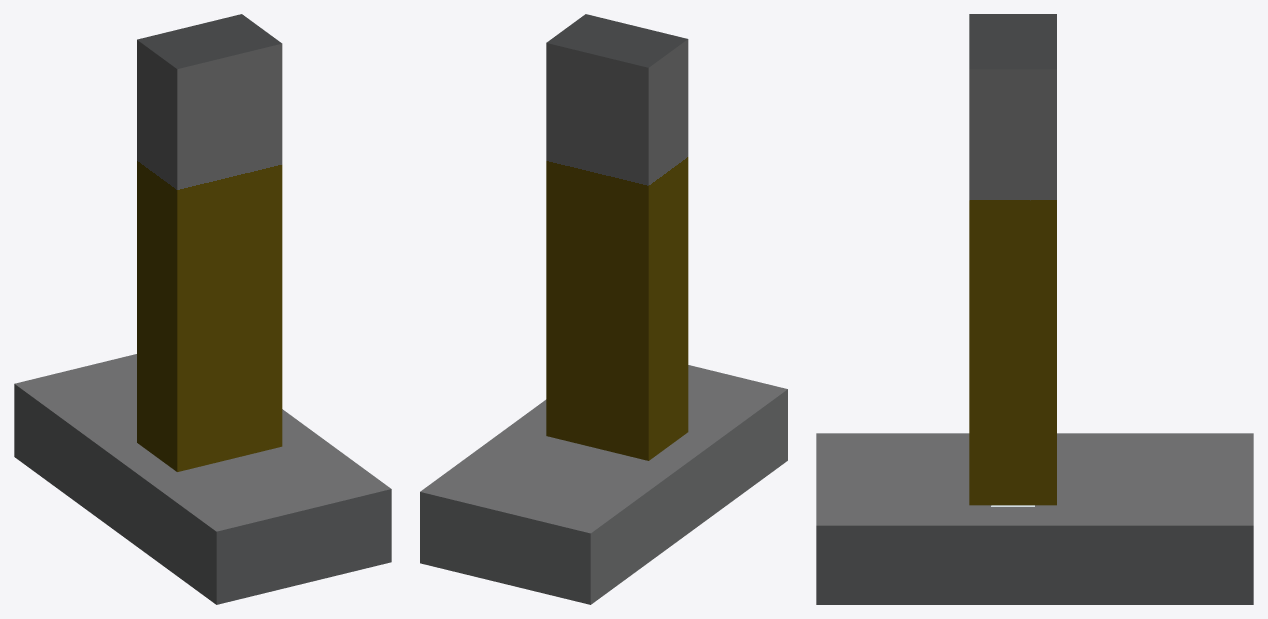
Rendered from Alavanca.gltf.
3 renders of one model, left to right at view 1: azimuth 30°, elevation 25°; view 2: azimuth 150°, elevation 25°; view 3: azimuth 270°, elevation 25°, orthographic. The views are drawn at different scales.
Visible parts, largest first — view 1: cube (×2); view 2: cube (×2); view 3: cube (×2).
Part boxes in pixels (bbox=[...]): cube (×2): bbox=[14, 14, 391, 604]; cube (×2): bbox=[420, 14, 787, 604]; cube (×2): bbox=[816, 14, 1253, 604].
Size of the model in its own units: 0.3125 by 0.8125 by 0.625.
2 materials, 2 textured.
